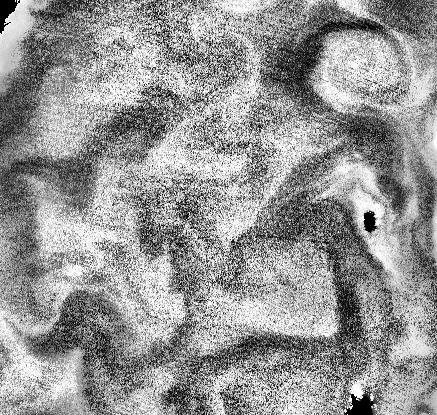AE: (301, 15, 408, 108)
